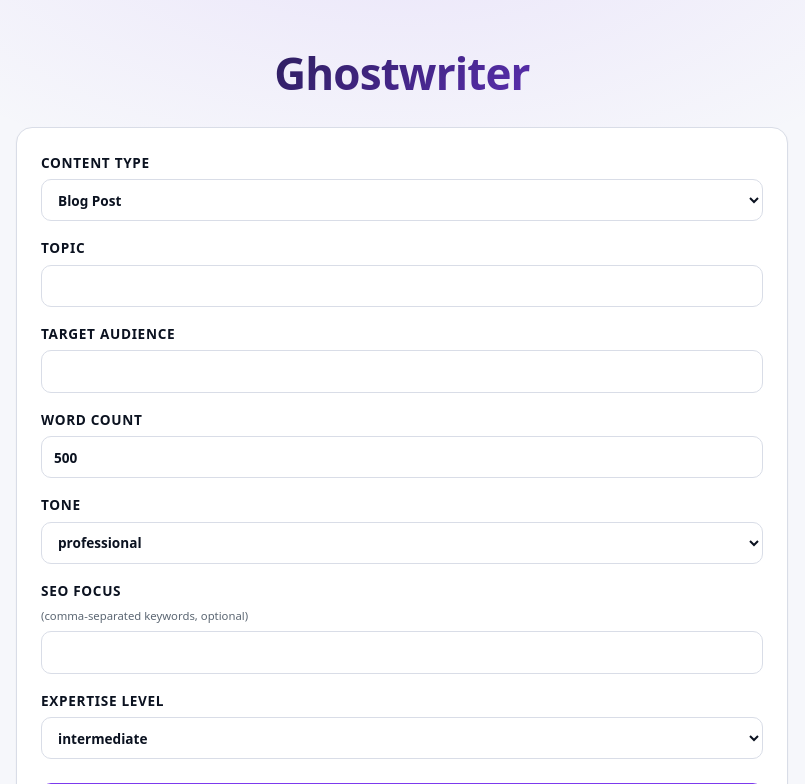
App › shows an error banner when the API rejects
The image size is (805, 784).
Type "x" into the field labelled "Topic" at (402, 286), box [41,265,763,307]
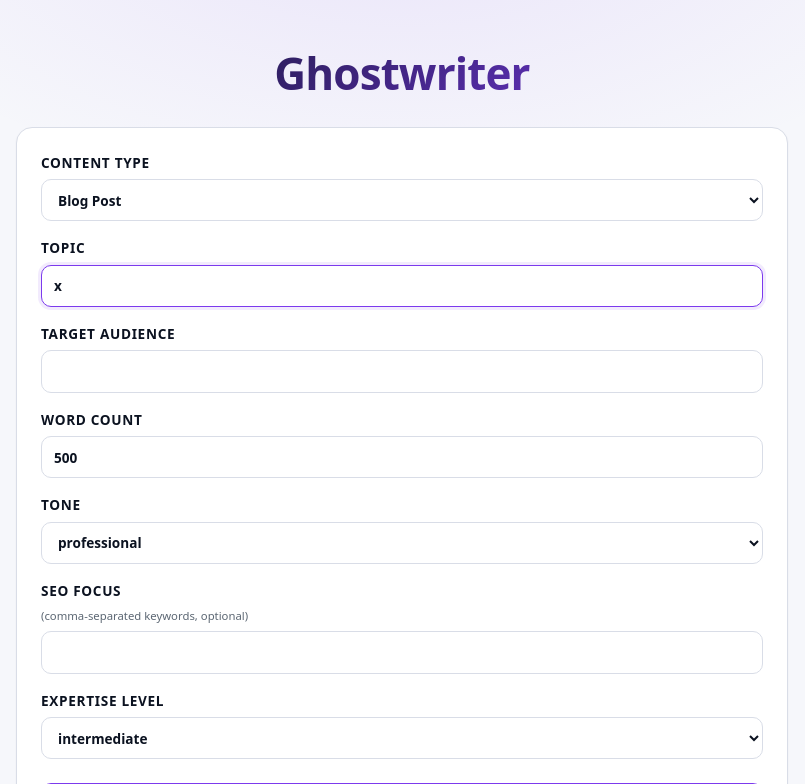
Type "y" into the field labelled "Target Audience" at (402, 372), box [41,350,763,393]
(page scrolled)
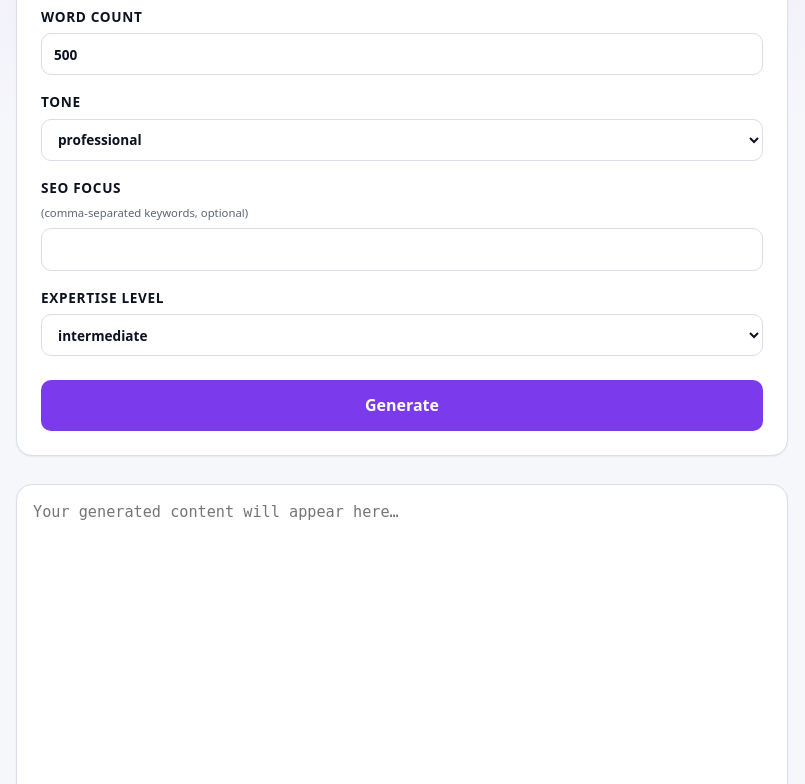
Click the button "Generate" at (402, 406), box [41,380,763,431]
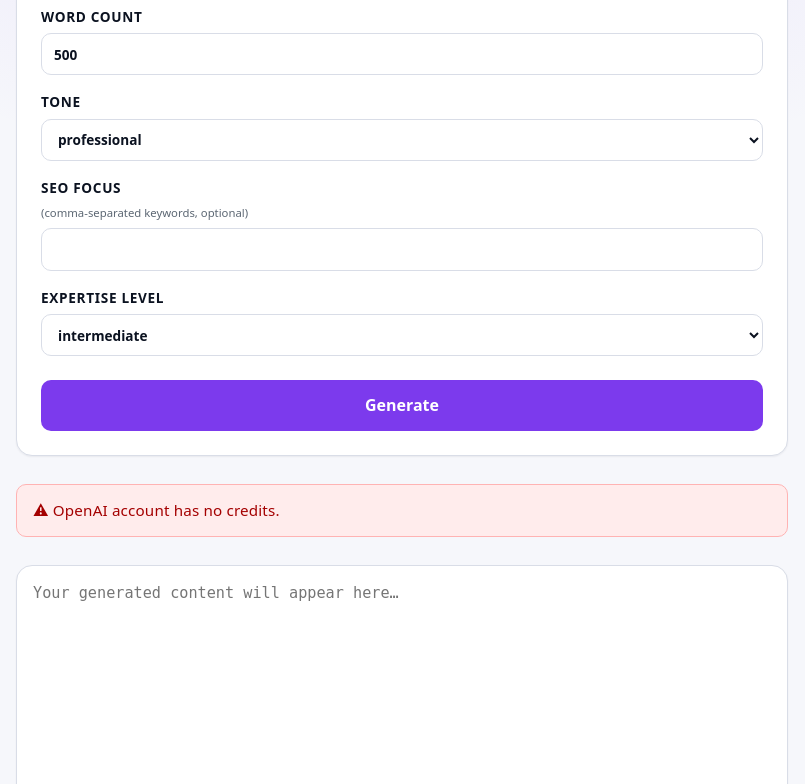
Check: the text "⚠ OpenAI account has no credits." is shown, box [16,484,788,537]
